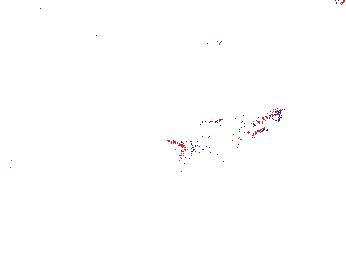red belly glassfish: (202, 34, 240, 50)
redtail glassfish: (168, 105, 286, 171)
